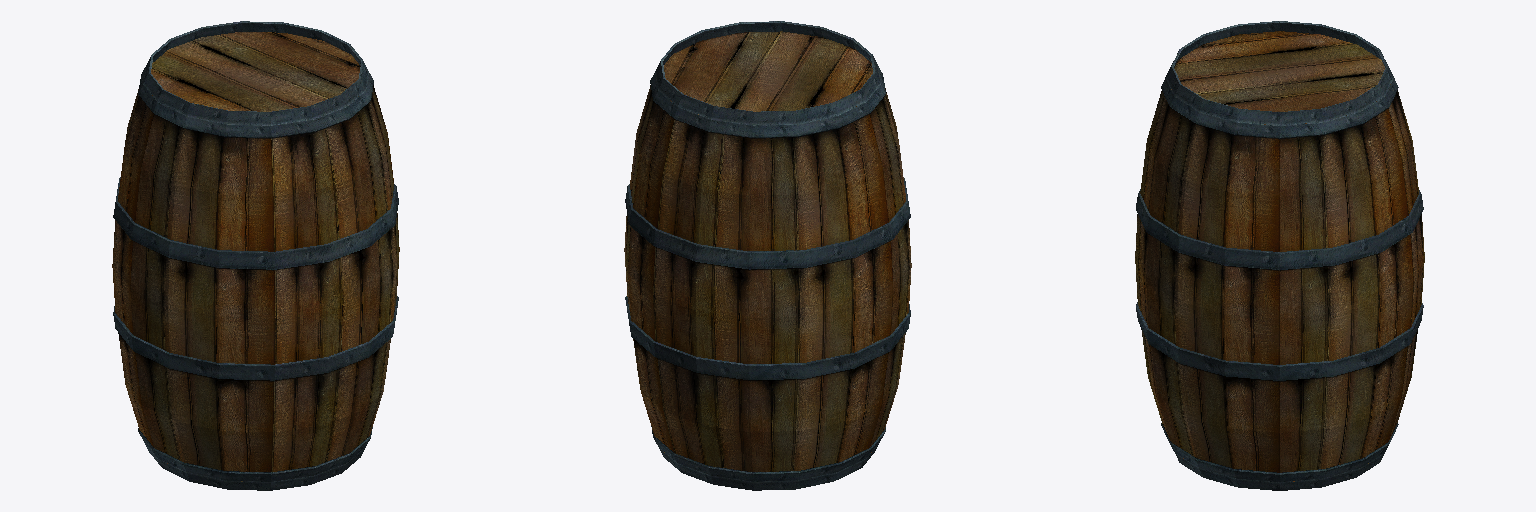
The picture shows the model from 3 angles: view 1: azimuth 30°, elevation 25°; view 2: azimuth 150°, elevation 25°; view 3: azimuth 270°, elevation 25°; orthographic projection.
Parts seen in each view (by area): view 1: WineCaskSmall; view 2: WineCaskSmall; view 3: WineCaskSmall.
Boxes of the visible parts, <box> form: WineCaskSmall: <box>112,21,399,490</box>; WineCaskSmall: <box>624,21,911,490</box>; WineCaskSmall: <box>1135,21,1424,490</box>.
Size of the model in its own units: 47.88 by 69.04 by 47.88.
1 materials, 1 textured.